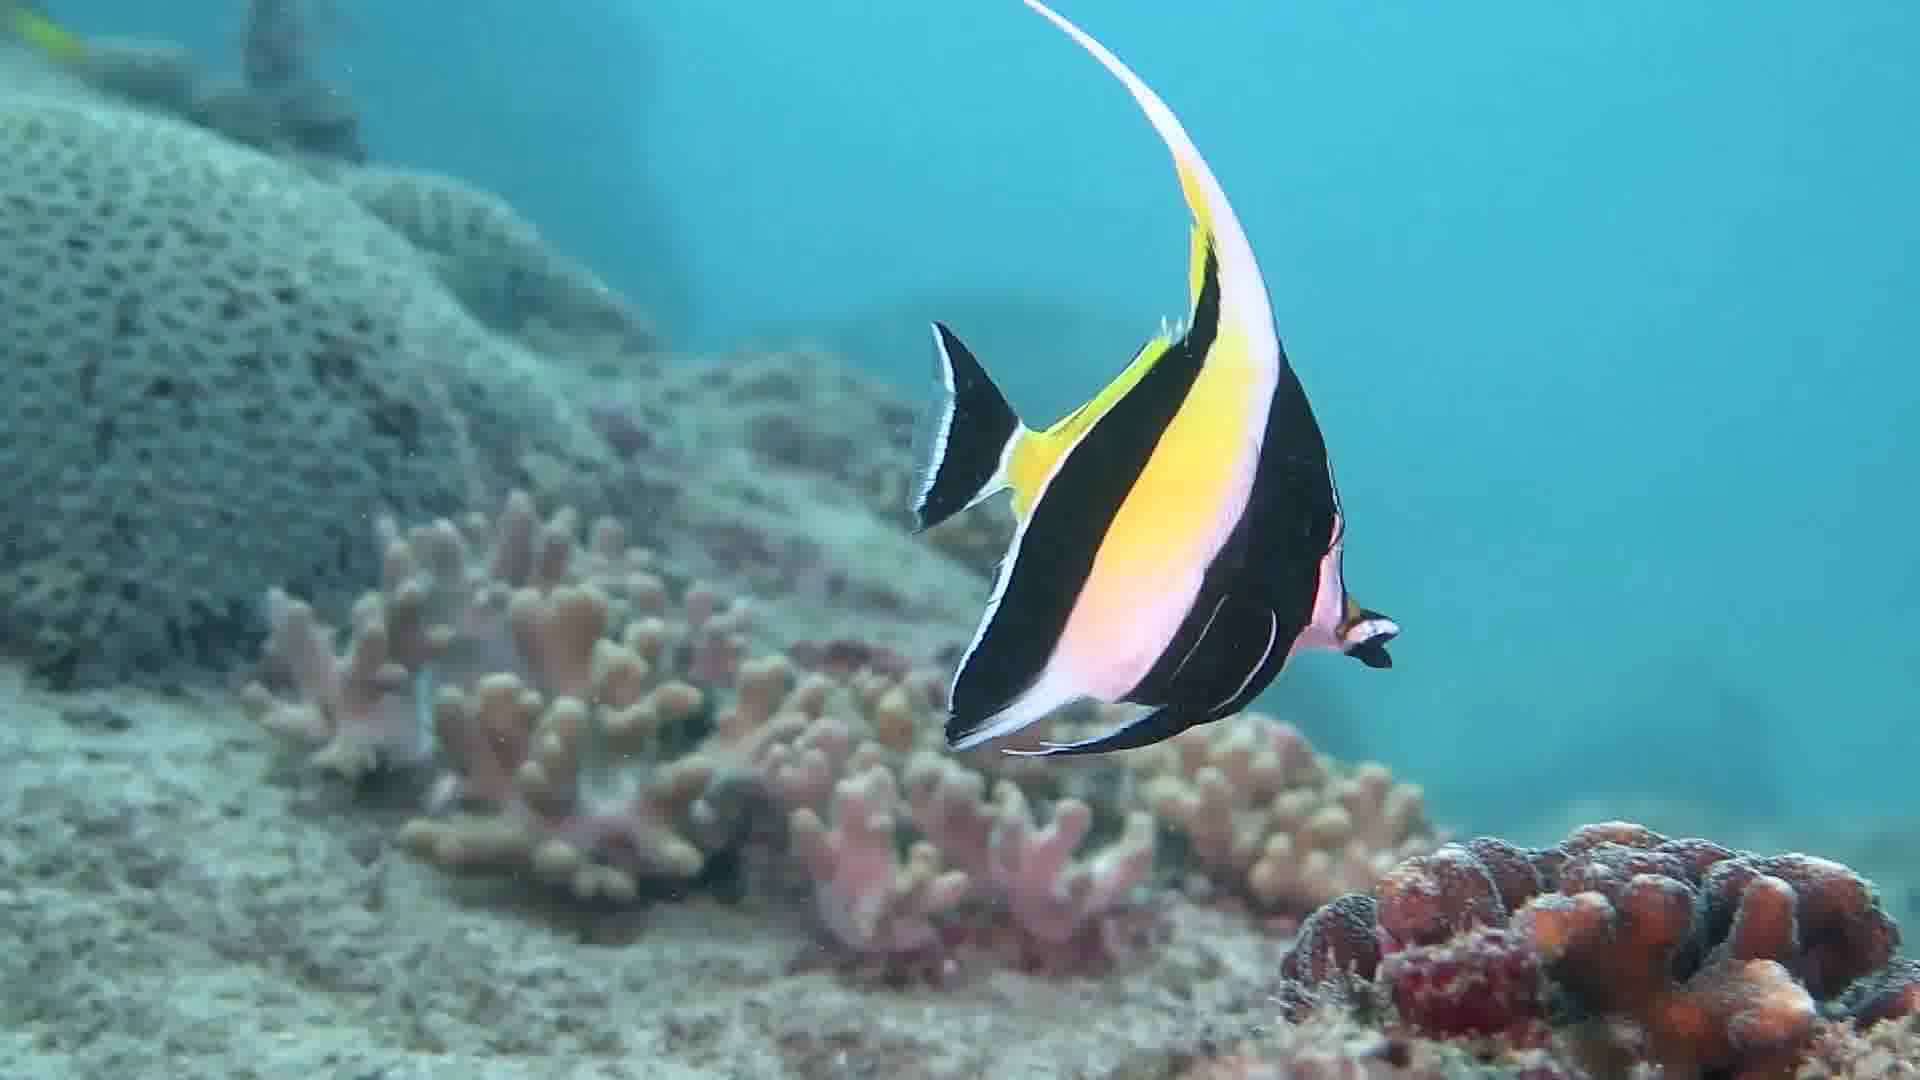Zanclus cornutus: (909, 95, 1400, 836)
